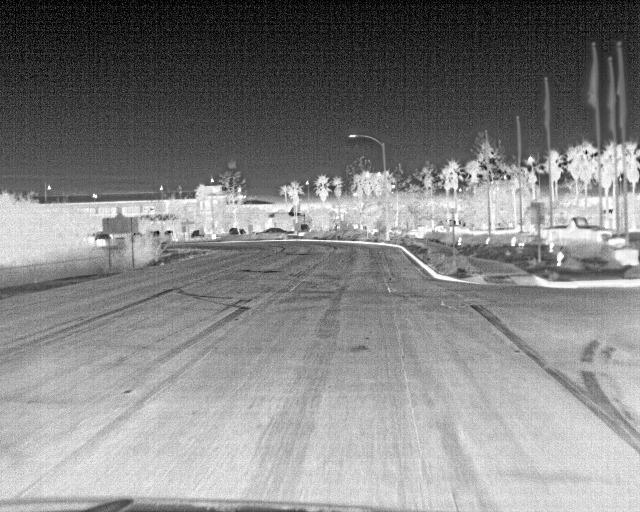car: (540, 213, 614, 243), (254, 227, 288, 240), (190, 228, 206, 241), (298, 223, 311, 235)
